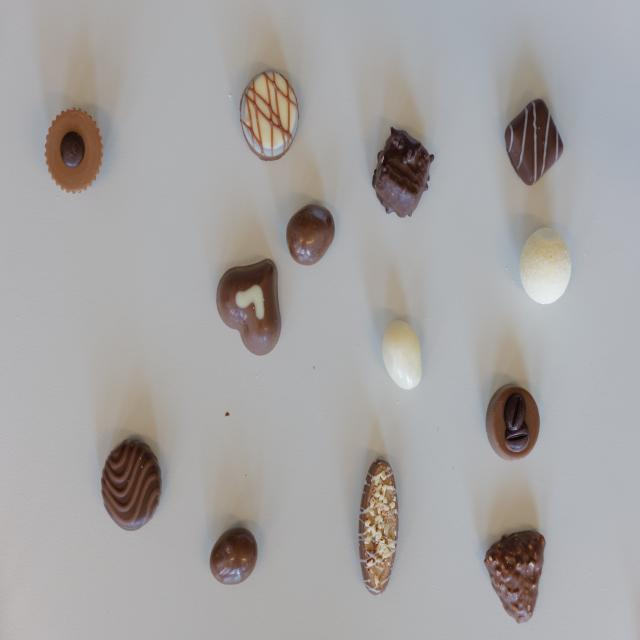Amandina: (358, 458, 398, 596)
Arabia: (486, 384, 542, 462)
Comtesse: (520, 228, 572, 306)
Creme_brulee: (240, 70, 298, 160)
Jelly_Milk: (286, 204, 338, 266), (210, 526, 259, 584)
Jelly_White: (382, 318, 422, 392)
Noblesse: (45, 109, 103, 193)
Noir_authentique: (102, 441, 164, 531)
Passion_au_lait: (218, 259, 282, 355)
Stracciatella: (506, 98, 564, 186)
Tentation_noir: (372, 127, 432, 218)
Triangolo: (483, 528, 548, 624)
